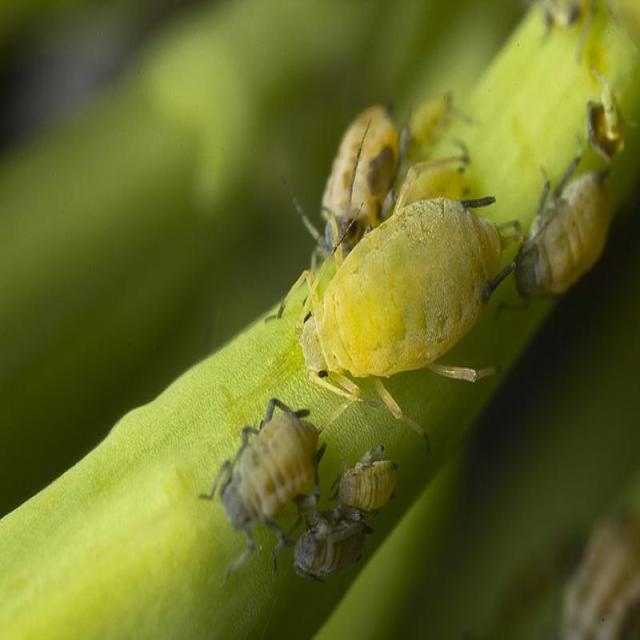Aphids: (243, 183, 527, 443), (186, 359, 344, 558)
